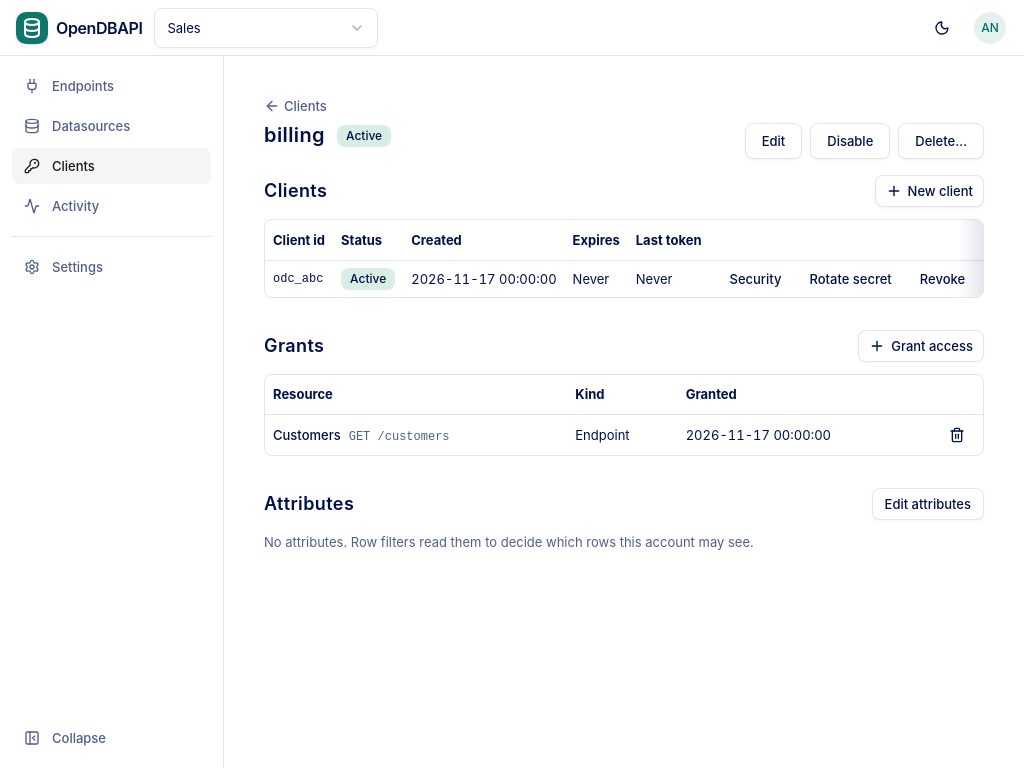
Test: Clients › turns on signed requests and shows the signing key once
The width and height of the screenshot is (1024, 768).
Click the button "Security".
click(755, 278)  # box [718,262,793,294]
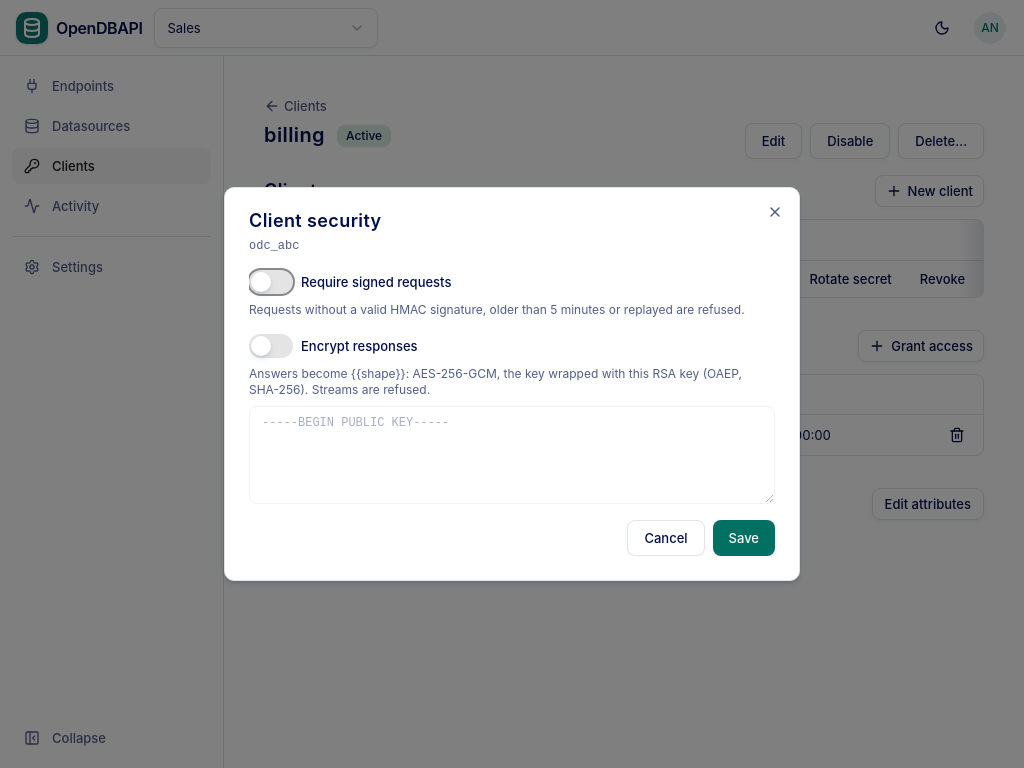
Click the switch named "Require signed requests" next to "Require signed requests".
click(271, 282)  # box [249,270,293,294]
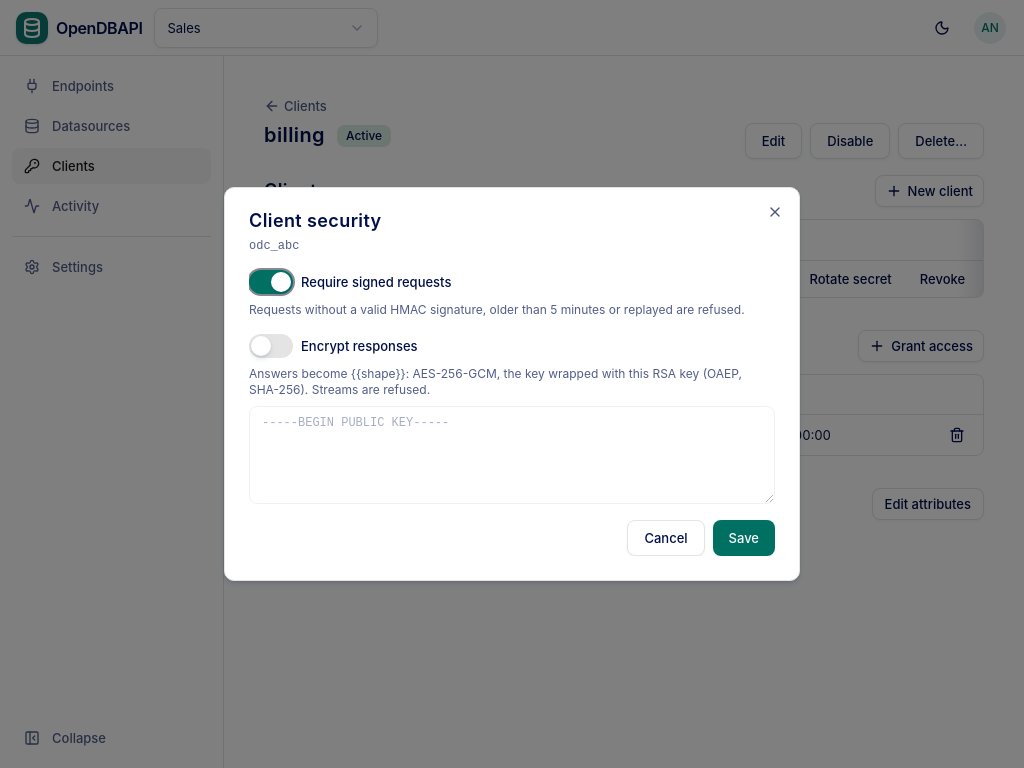
Click the button "Save".
click(744, 538)  # box [713,520,775,556]
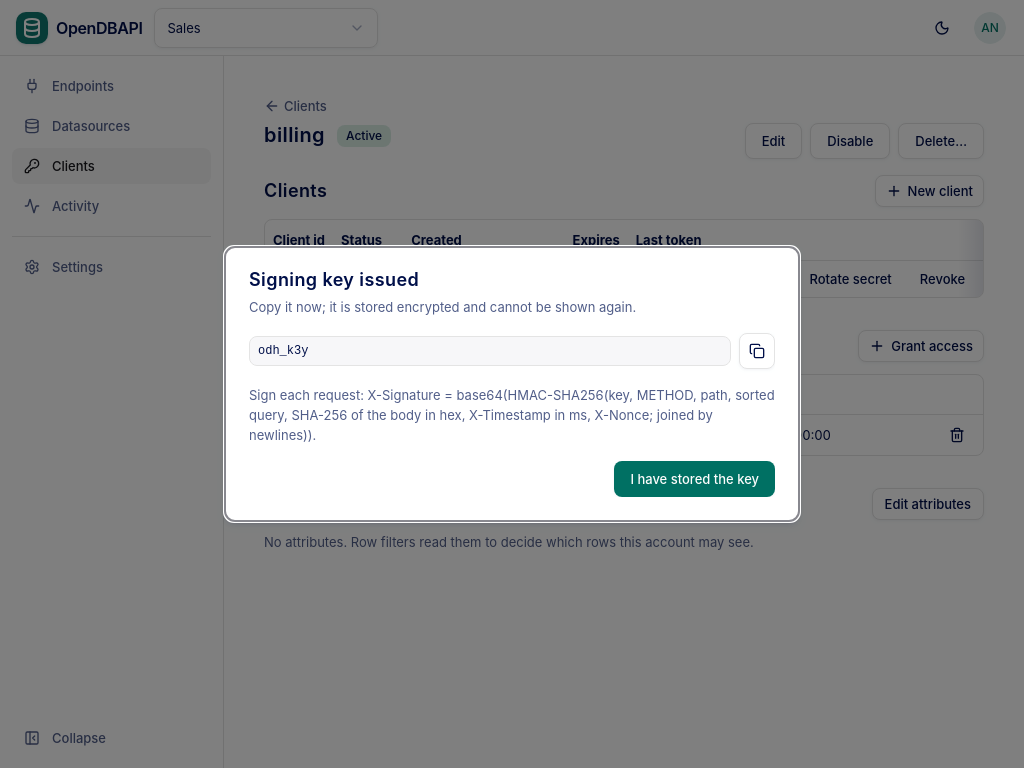
Expected: the text "odh_k3y" is shown, [249,336,731,366]
